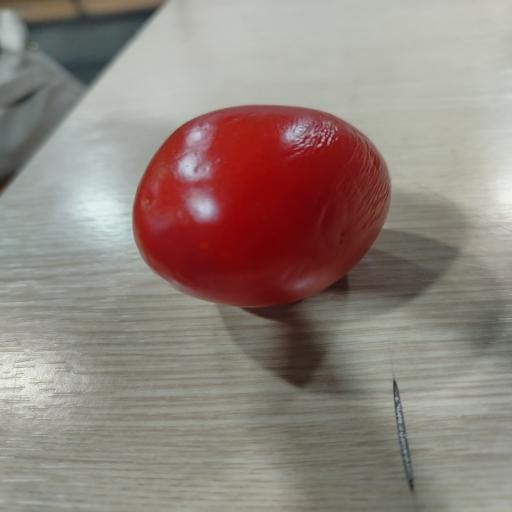spoiled: (133, 105, 390, 307)
